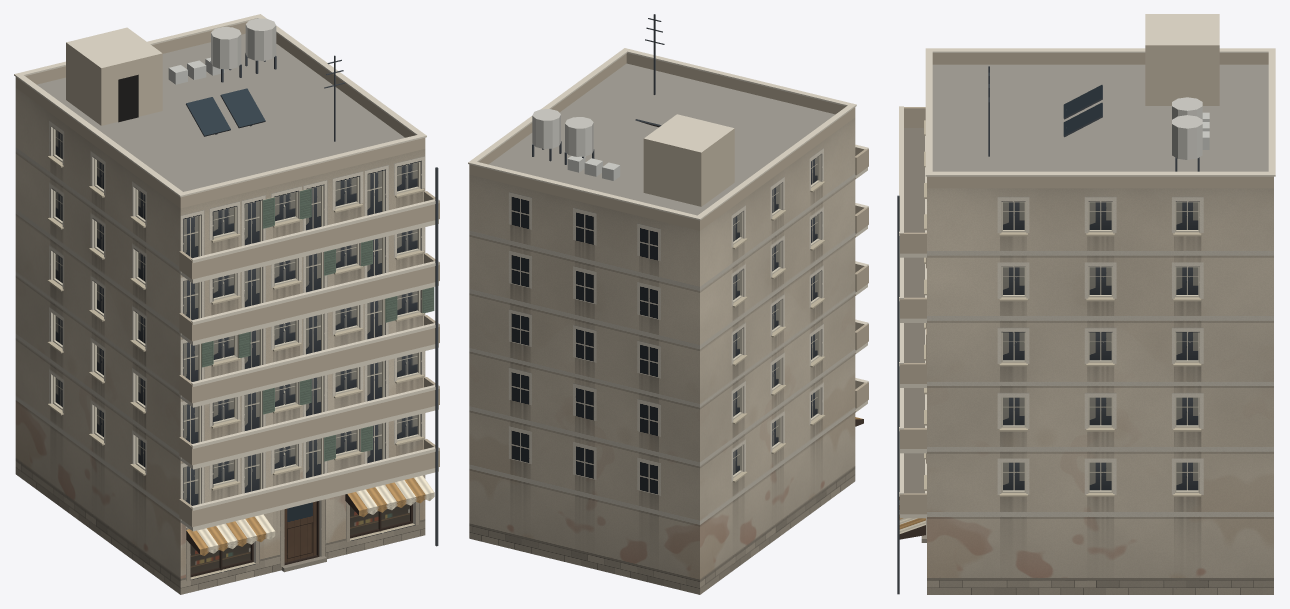
Rendered from hero_res_mid_a.glb.
3 renders of one model, left to right at view 1: azimuth 30°, elevation 25°; view 2: azimuth 150°, elevation 25°; view 3: azimuth 270°, elevation 25°, orthographic. The views are drawn at different scales.
Visible parts, largest first — view 1: bld_hero_res_mid_a; view 2: bld_hero_res_mid_a; view 3: bld_hero_res_mid_a.
Boxes of the visible parts, box(x1,y1,x2,y2) form: bld_hero_res_mid_a: box(14, 14, 439, 594); bld_hero_res_mid_a: box(468, 14, 868, 594); bld_hero_res_mid_a: box(897, 14, 1275, 594).
Size of the model in its own units: 12.52 by 22.13 by 15.26.
1 material, 1 textured.
